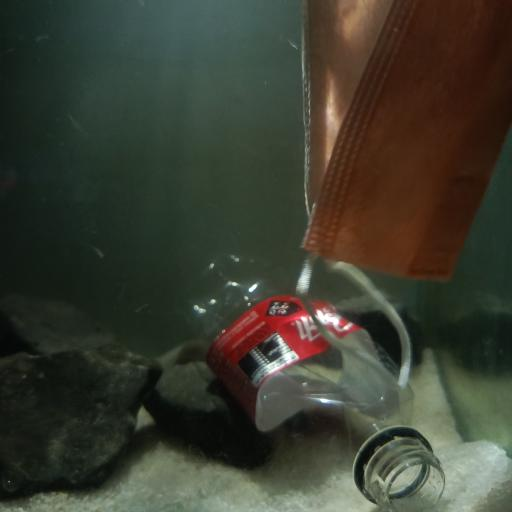mask: (297, 9, 512, 370)
plastic_bottle: (183, 255, 447, 511)
